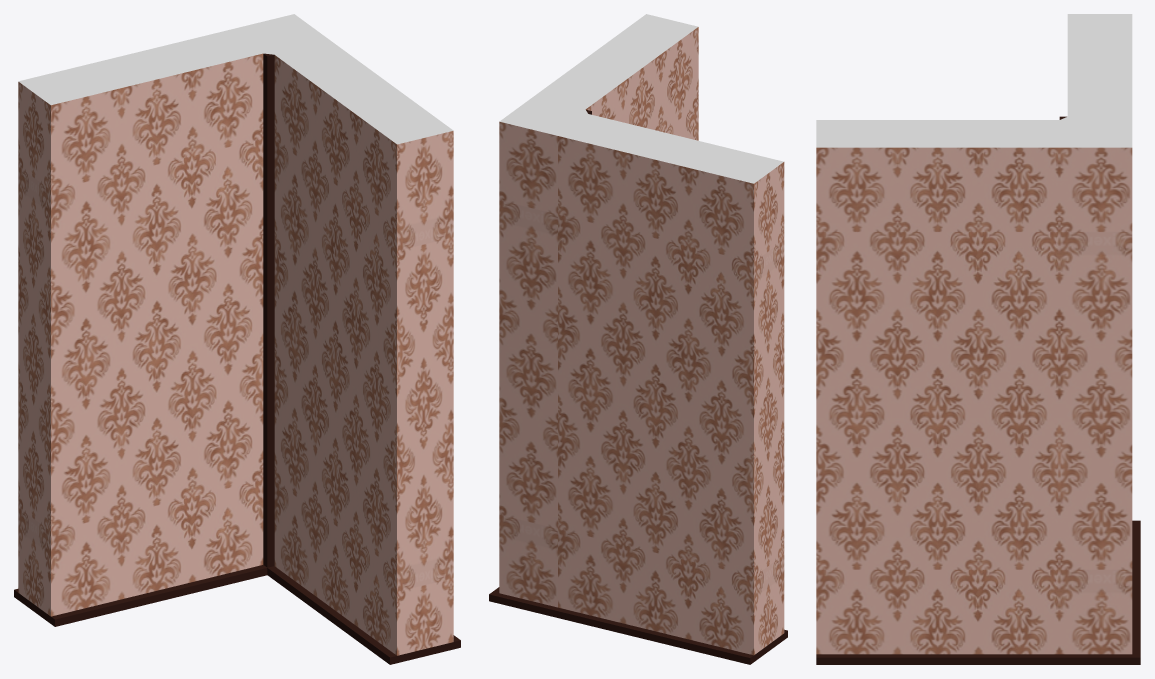
Rendered from wallCorner.fbx.
3 renders of one model, left to right at view 1: azimuth 30°, elevation 25°; view 2: azimuth 150°, elevation 25°; view 3: azimuth 270°, elevation 25°, orthographic. The views are drawn at different scales.
Parts seen in each view (by area): view 1: wallCorner; view 2: wallCorner; view 3: wallCorner.
Part boxes in pixels (x1=…): wallCorner: x1=14, y1=14, x2=460, y2=664; wallCorner: x1=489, y1=14, x2=787, y2=664; wallCorner: x1=816, y1=14, x2=1140, y2=664.
Bounding box in the file's own units: 400 × 700 × 400.
